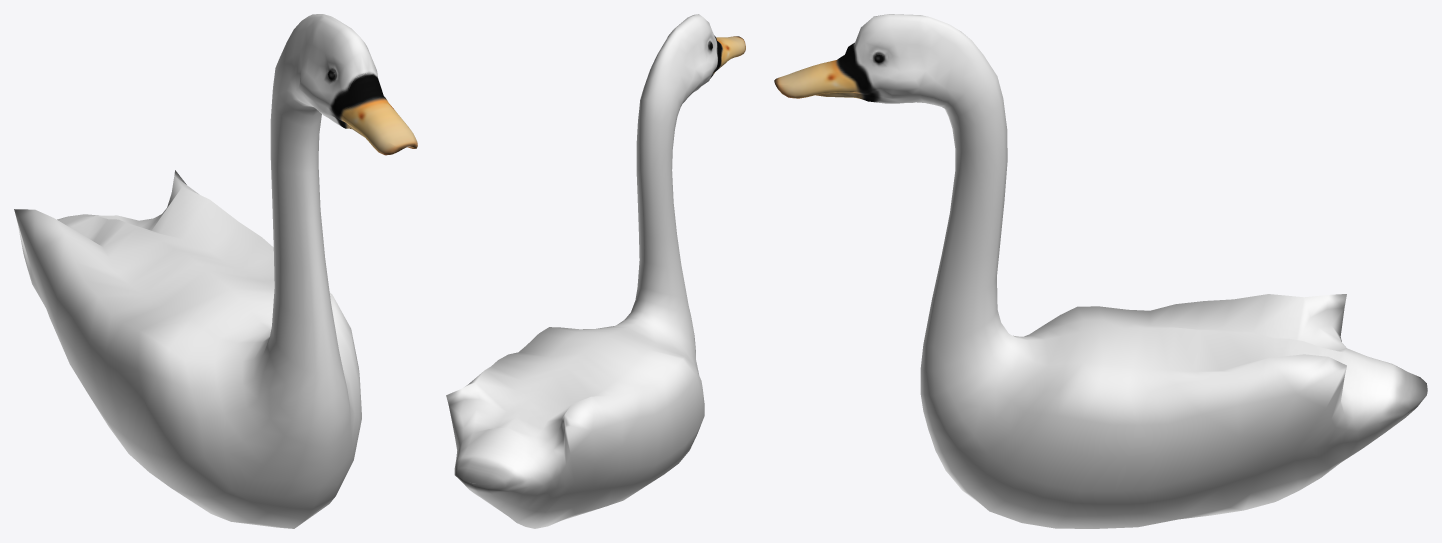
File: Swan.fbx
3 renders of one model, left to right at view 1: azimuth 30°, elevation 25°; view 2: azimuth 150°, elevation 25°; view 3: azimuth 270°, elevation 25°, orthographic. The views are drawn at different scales.
Parts seen in each view (by area): view 1: swan_Figur; view 2: swan_Figur; view 3: swan_Figur.
Part boxes in pixels (x1,y1,x2,y2): swan_Figur: (14,14,417,528); swan_Figur: (446,14,745,528); swan_Figur: (774,14,1427,528).
Bounding box in the file's own units: 27.7 × 71.15 × 83.07.
1 material, 1 textured.
